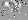person: (15, 2, 22, 16), (7, 4, 14, 11)
